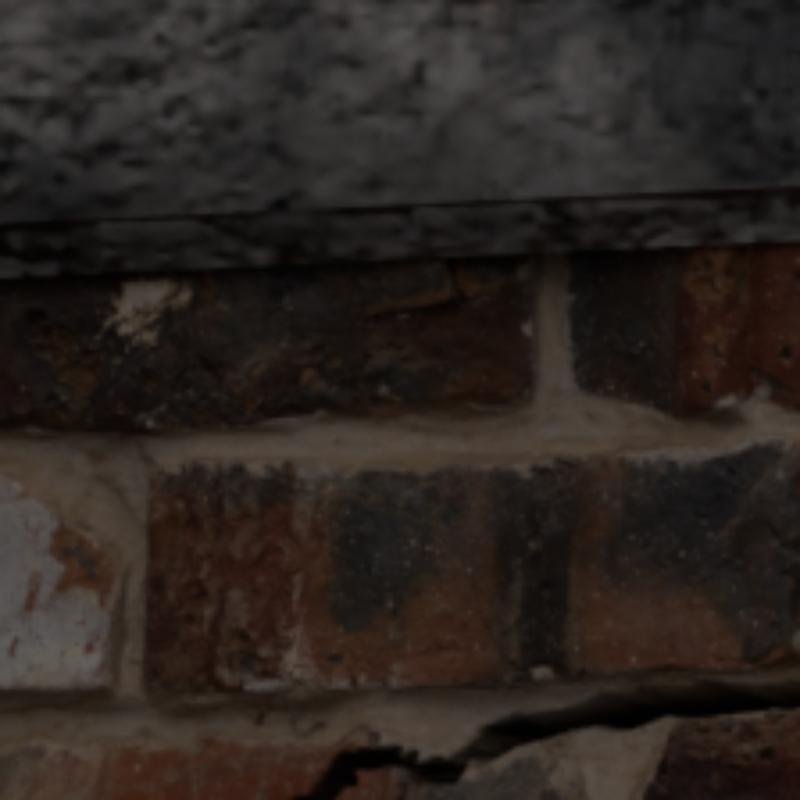pothole: (289, 679, 796, 796)
